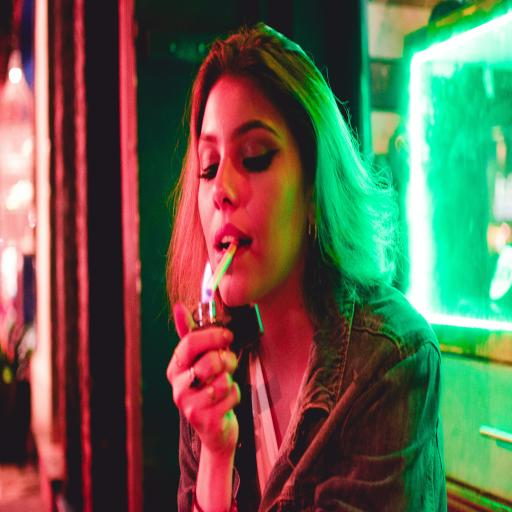lighter: (176, 207, 230, 333)
